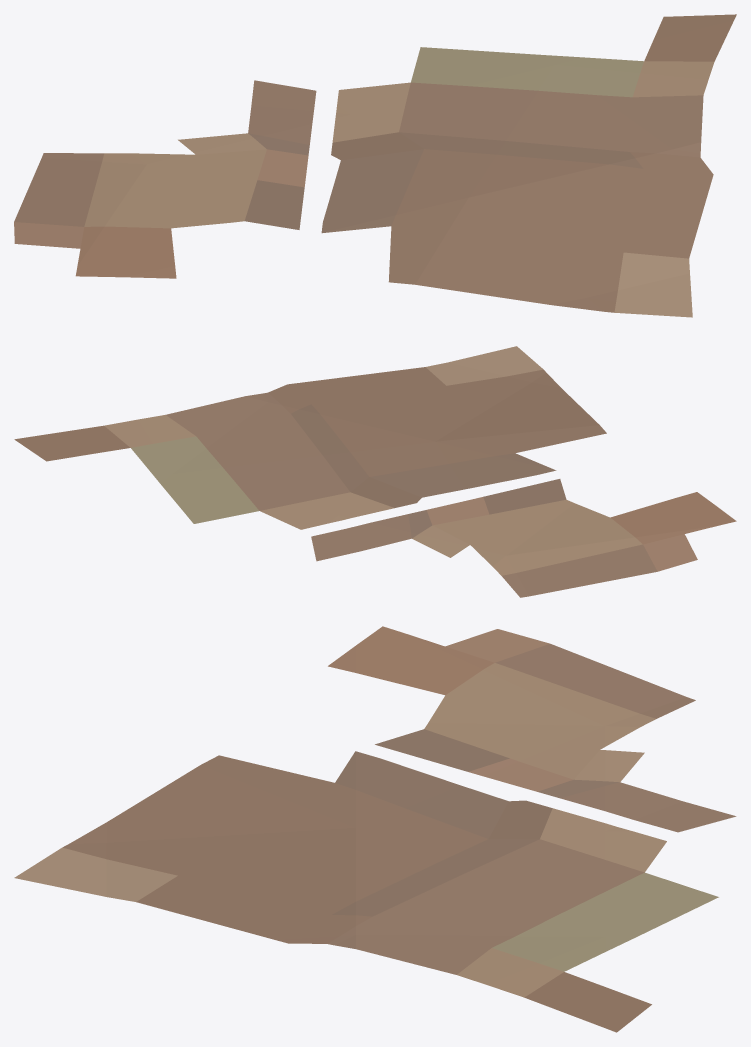
File: farm_-41_-39_soil.glb
3 renders of one model, top to bottom at view 1: azimuth 30°, elevation 25°; view 2: azimuth 150°, elevation 25°; view 3: azimuth 270°, elevation 25°, orthographic. The views are drawn at different scales.
Visible parts, largest first — view 1: geometry_0; view 2: geometry_0; view 3: geometry_0.
Boxes of the visible parts, x1,y1,x2,y2 form: geometry_0: [14, 14, 736, 317]; geometry_0: [14, 346, 736, 597]; geometry_0: [14, 626, 736, 1032].
Bounding box in the file's own units: 305 × 8.13 × 232.
